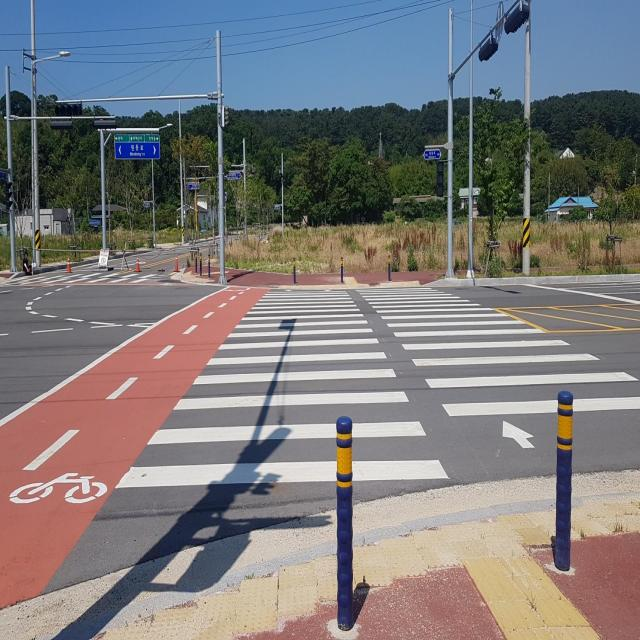횡단보도: (115, 287, 640, 491), (3, 270, 169, 285)
